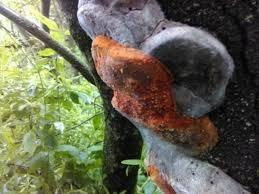Plum tinder fungus: (68, 0, 259, 194)
